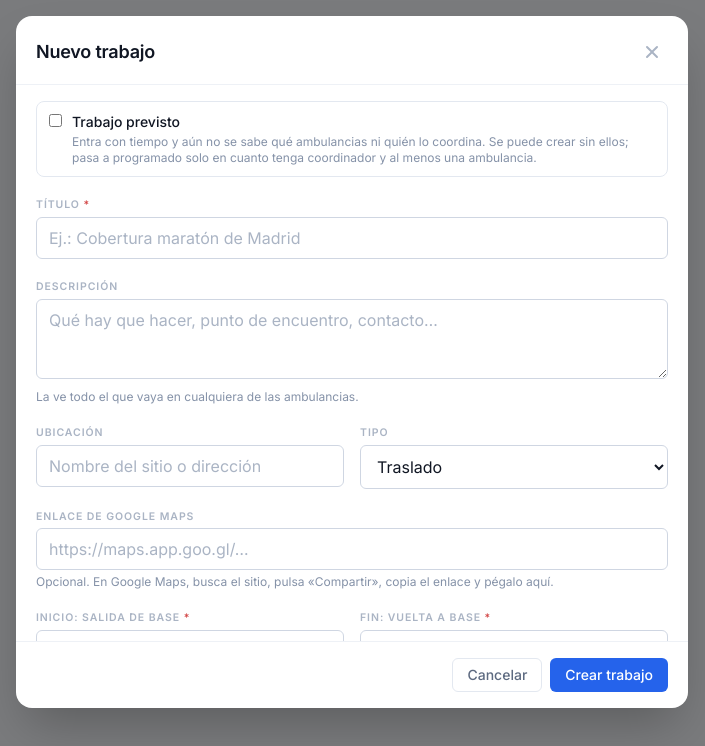
Test: TrabajoForm · varios coordinadores (v35) › en el alta, sin ningún coordinador no deja guardar
Click the button "Crear trabajo" at [609, 675], box [550, 658, 668, 692]
(page scrolled)
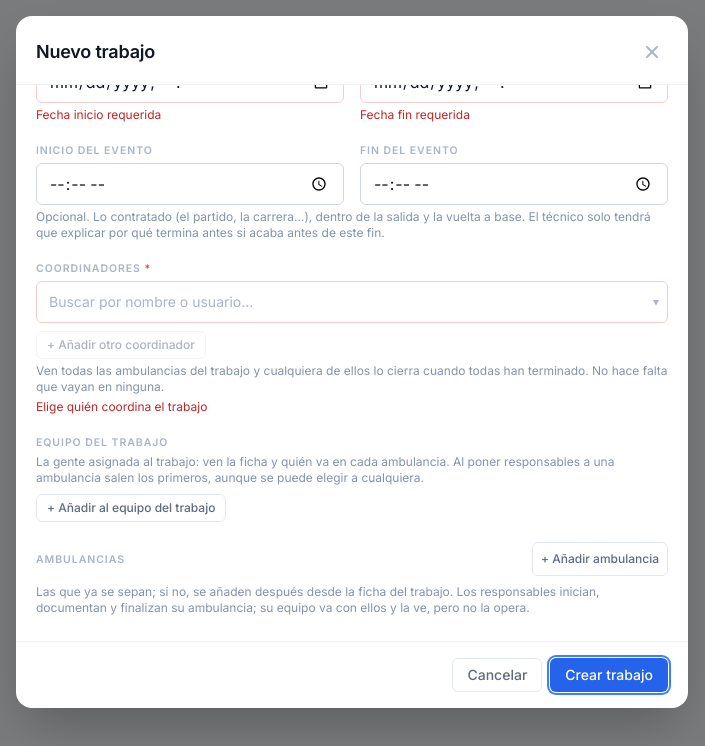
Expected: the text "Elige quién coordina el trabajo" is shown, [36, 399, 207, 414]
